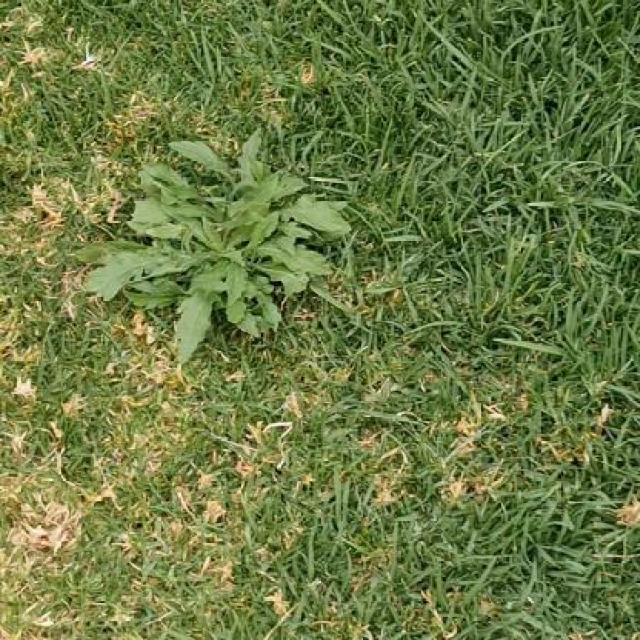weed: (82, 132, 351, 362)
